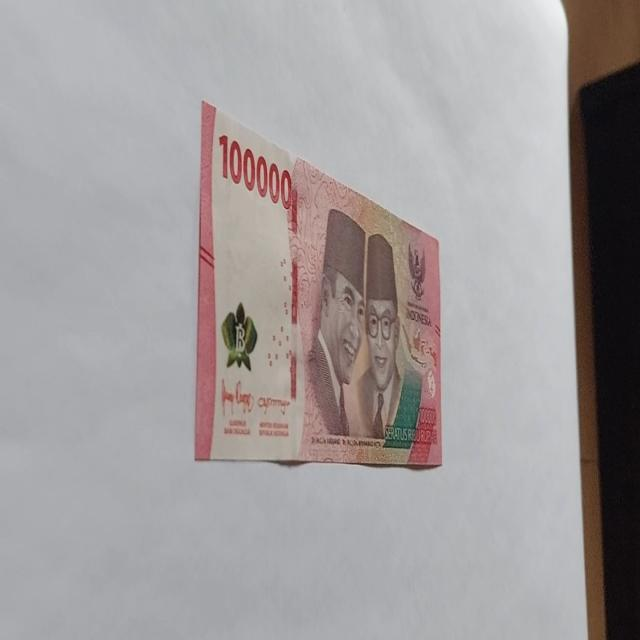seratus ribu rupiah: (194, 98, 444, 470)
